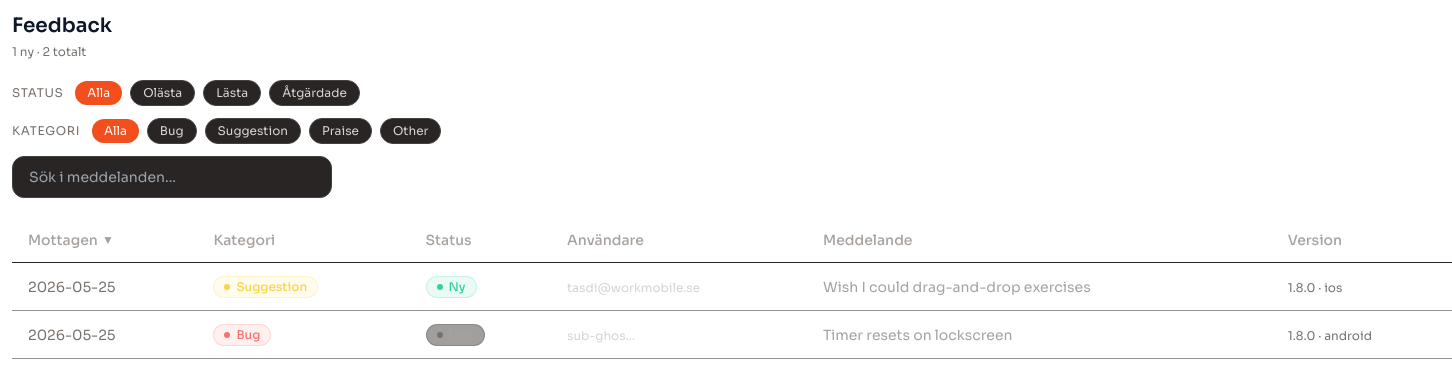
FeedbackList › filters the list on email substring in the search box
This screenshot has width=1452, height=376.
Expected: the text "tasdi@workmobile.se" is shown, [567, 280, 700, 294]
Type "tasdi" into the field with placeholder "Sök i meddelanden..." at x=172, y=177, box [12, 156, 332, 198]
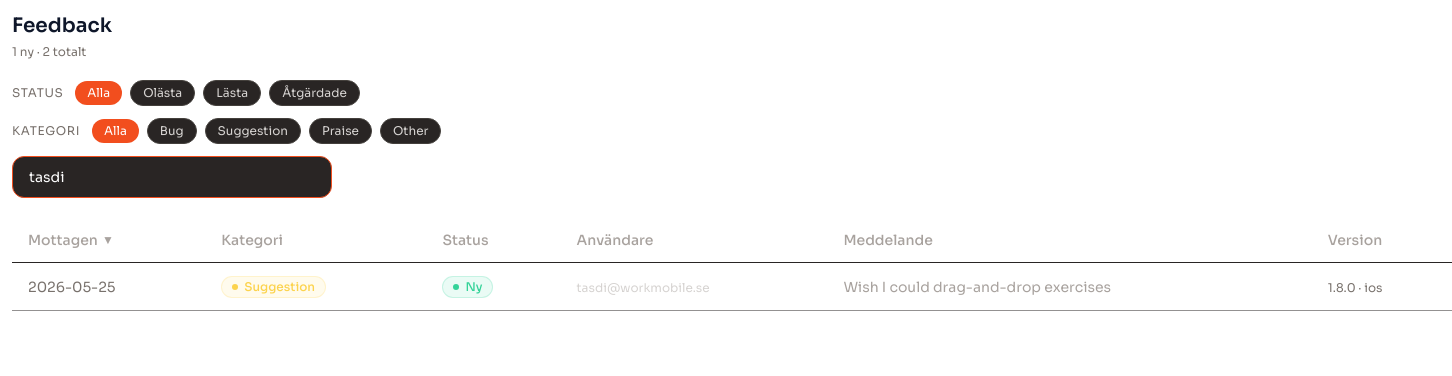
Expected: the text "tasdi@workmobile.se" is shown, [576, 280, 710, 294]
Result: the text "sub-ghos…" is gone
